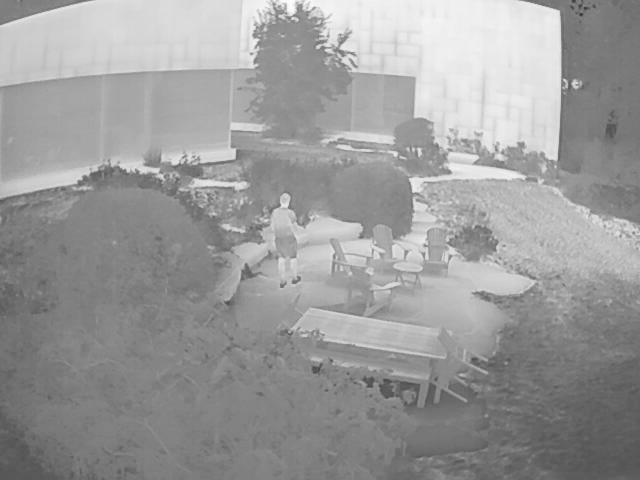person: (271, 192, 302, 288)
